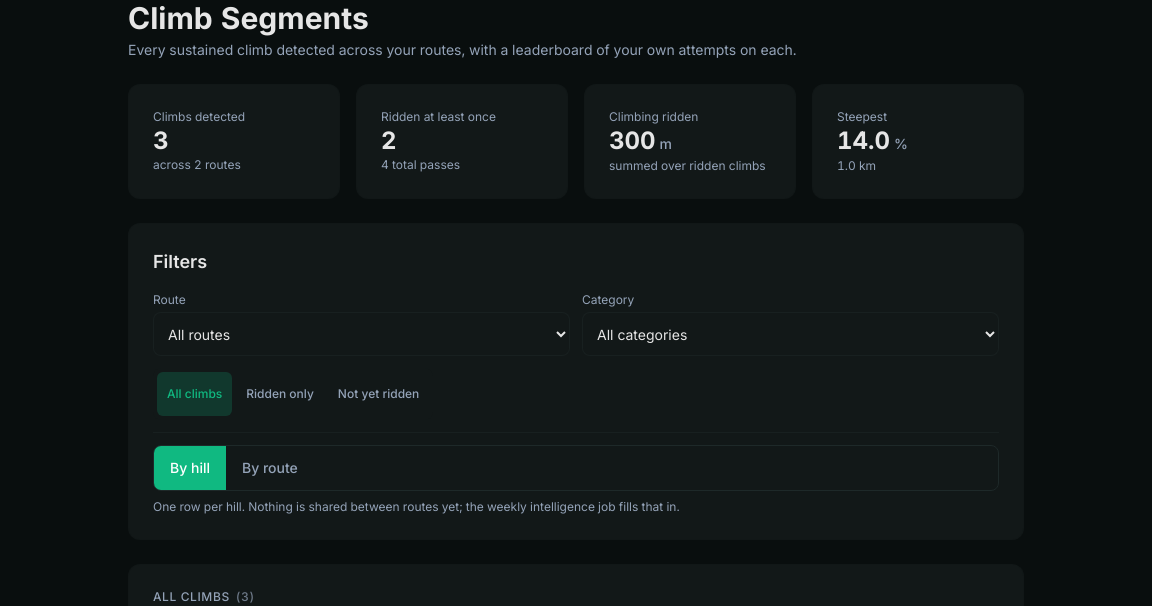
Test: segments page › says so when a filter combination matches nothing
Select "Alpe Repeat (1)" in the dropdown named "Filter by route" at (362, 334), box [153,312,570,356]
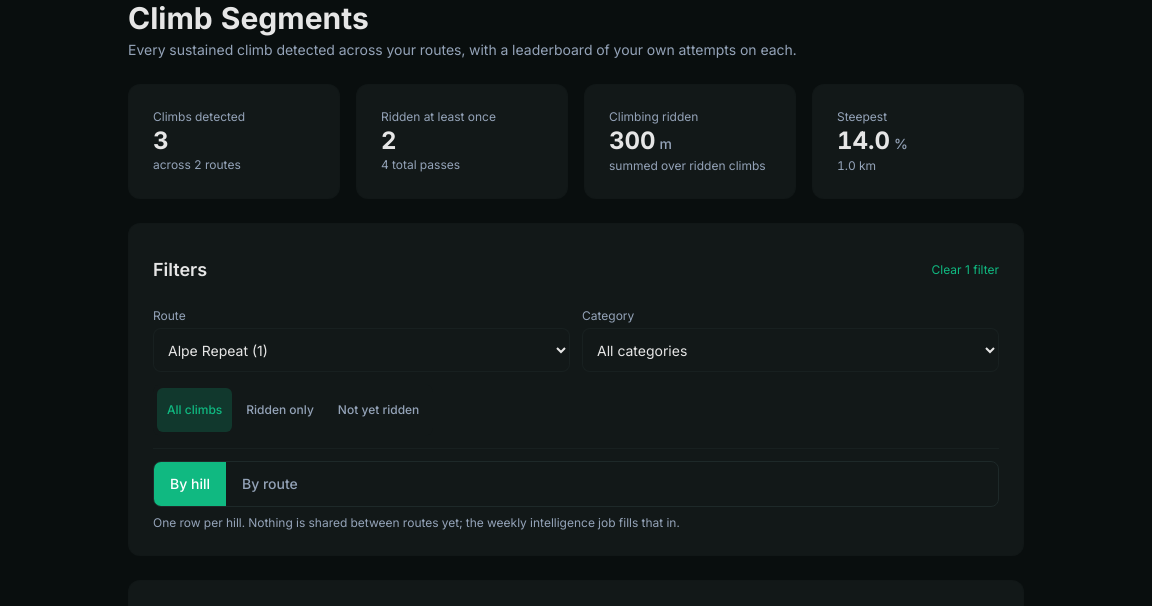
Select "Cat 4" in the dropdown named "Filter by category" at (790, 350), box [582,328,999,372]
(page scrolled)
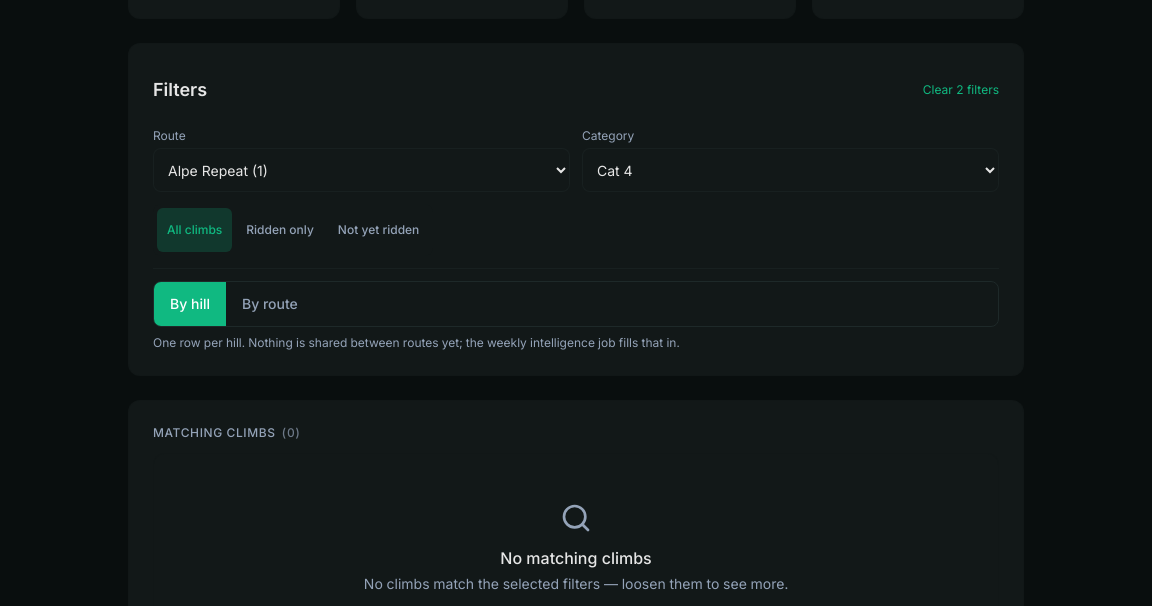
Check: the text "No climbs match the selected filters — loosen them to see more." is shown, box [352,574,800,594]
